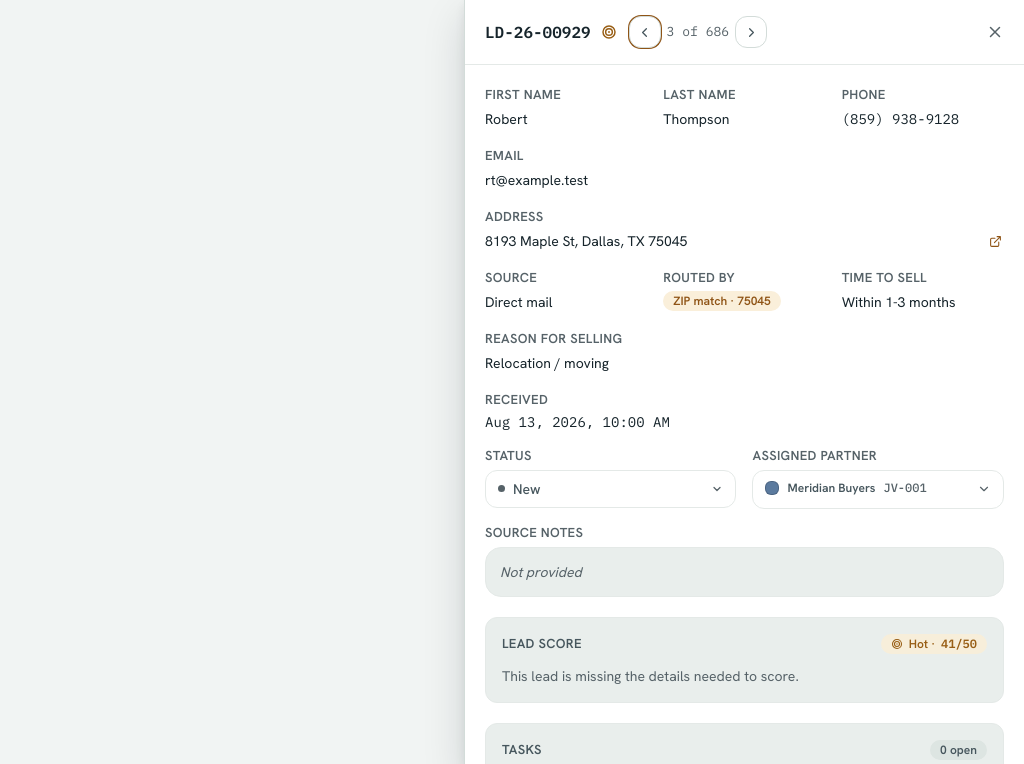
N5E-06: the address is one line that opens into four columns › N5E-06: leaving the group collapses it back to the line, carrying the saved value
Click the button with aria-label "Address:" at (586,241), box [485,229,958,254]
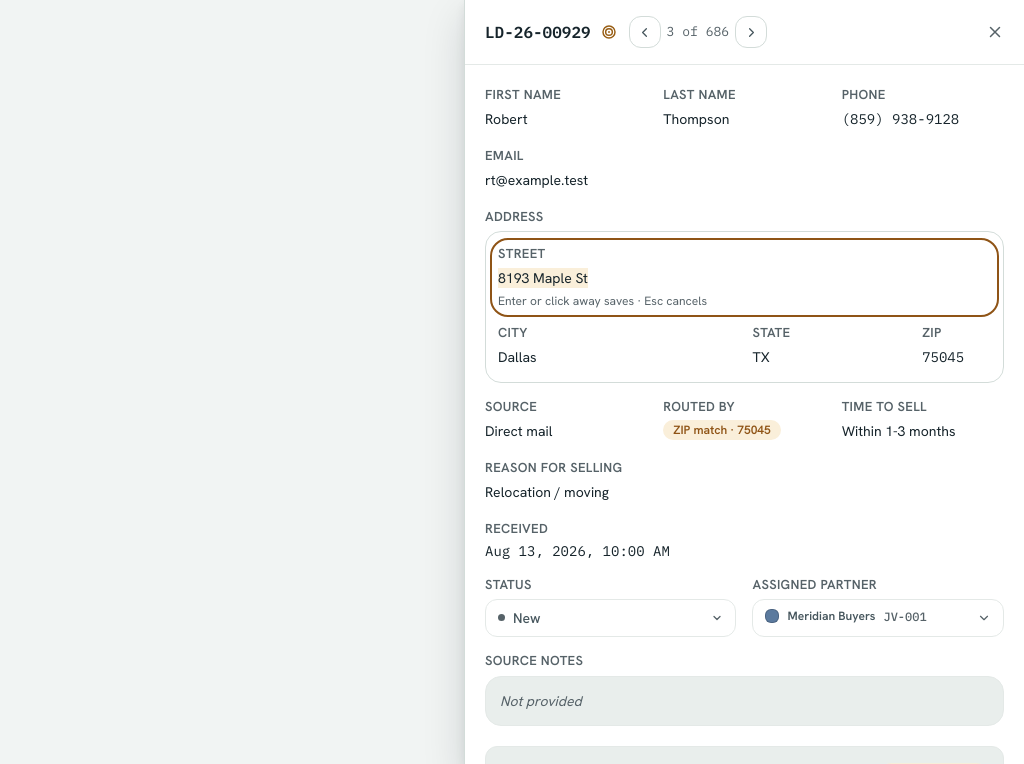
Press Escape
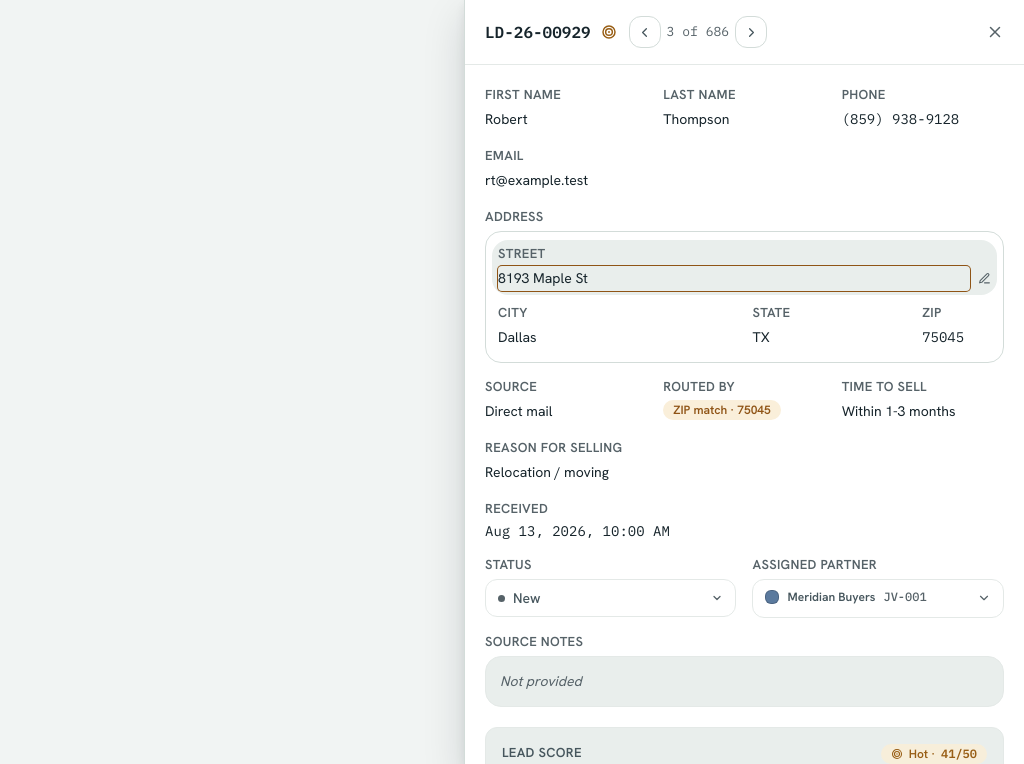
Click the button with aria-label "City:" at (607,338), box [498,325,716,350]
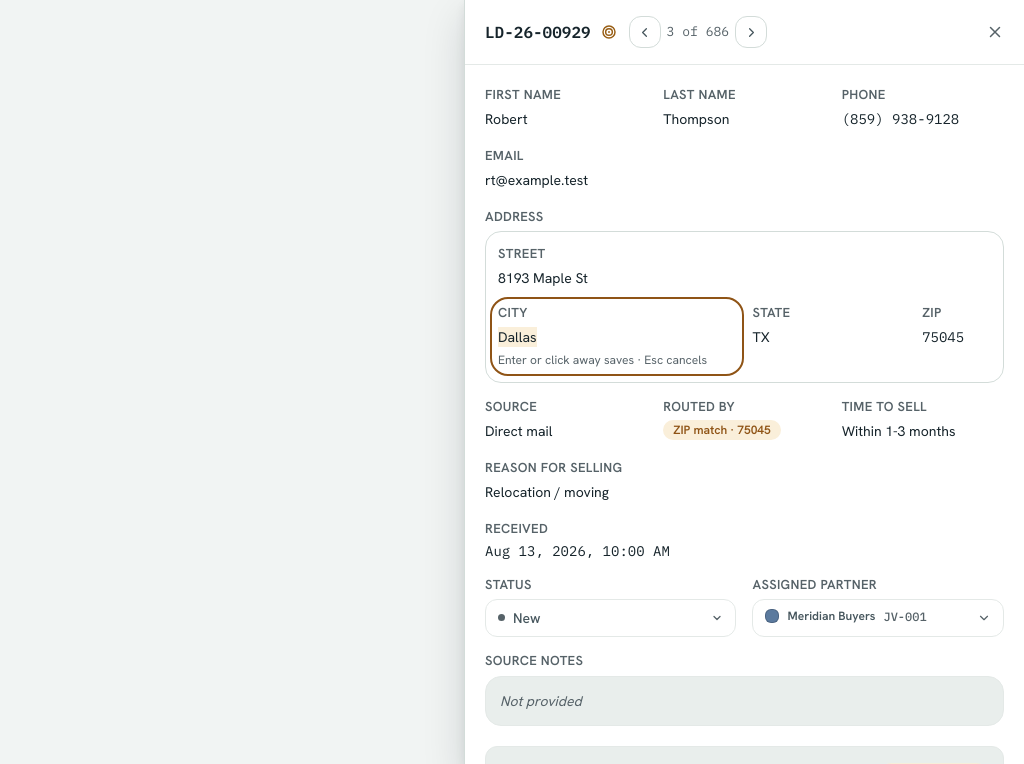
Type keys "Austin{Enter}"
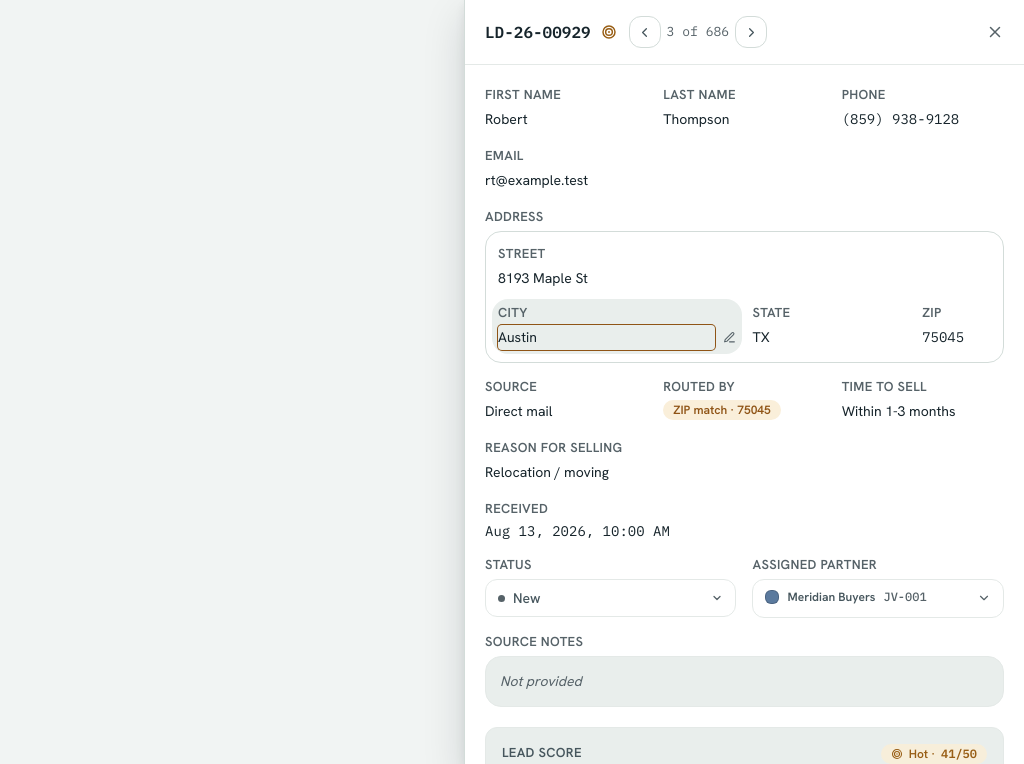
// Focus moves to a field OUTSIDE the group — the gesture that ends the group's session.
Click the button with aria-label "First name:" at (556,120), box [485,107,626,132]
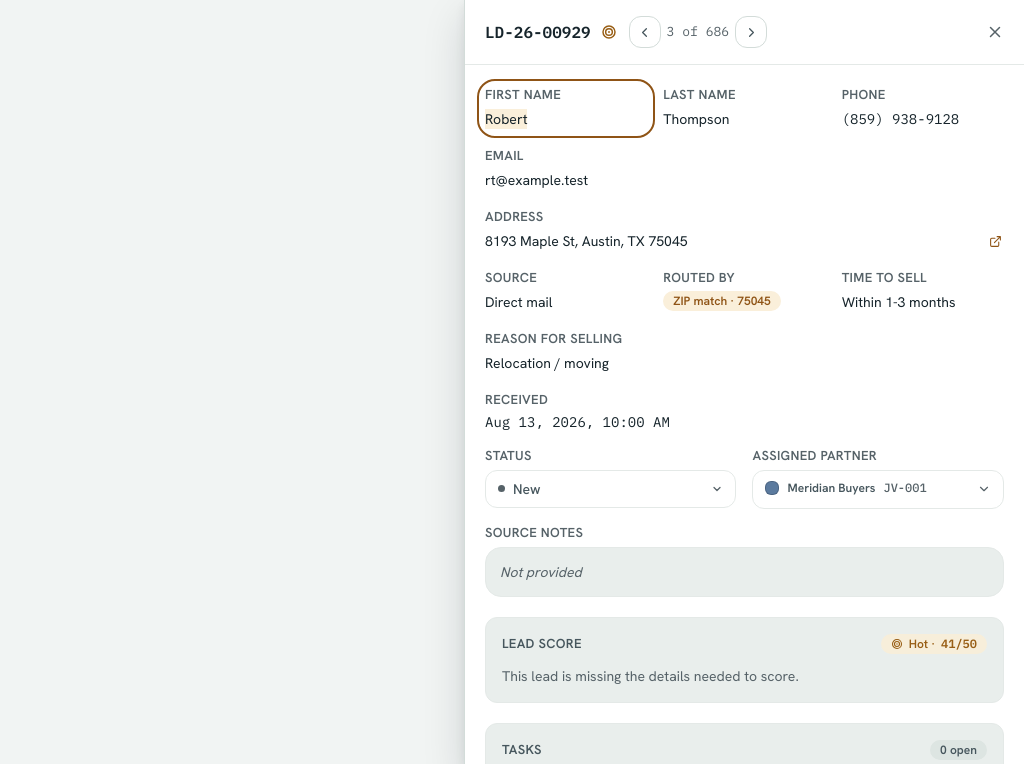
Now the text "8193 Maple St, Austin, TX 75045" is shown, box [485,232,688,250]
